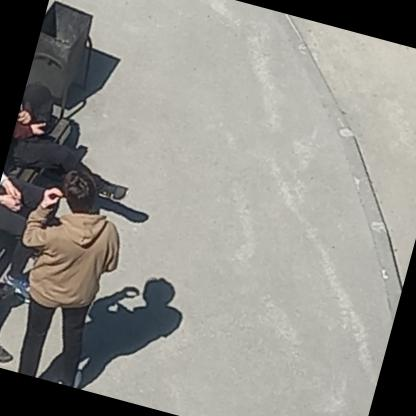Human Body: (0, 161, 142, 391)
